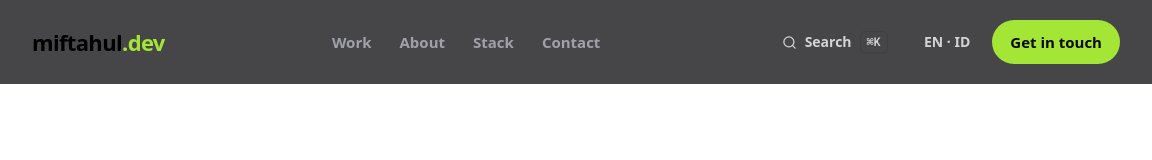
Header › switches language
The image size is (1152, 160).
Click the button with aria-label "Switch language to Indonesian" at {"x": 947, "y": 42}, box [910,20,984,64]
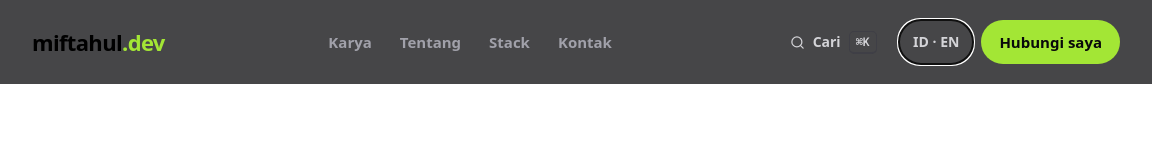
Expected: the navigation bar named "Utama" shows "Karya", [328,31,372,53]
